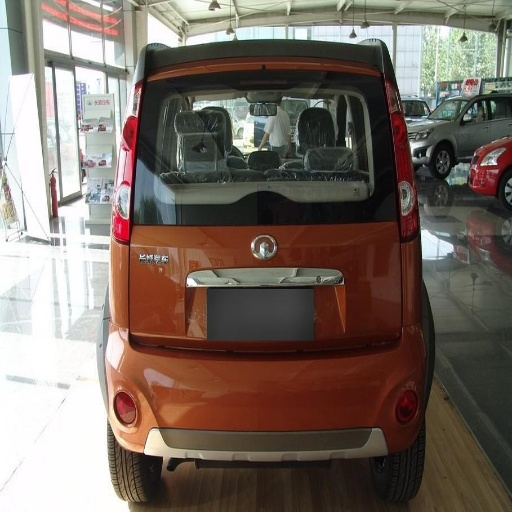back_bumper: (101, 318, 422, 465)
tailgate: (214, 187, 367, 223)
trunk: (131, 188, 397, 397)
